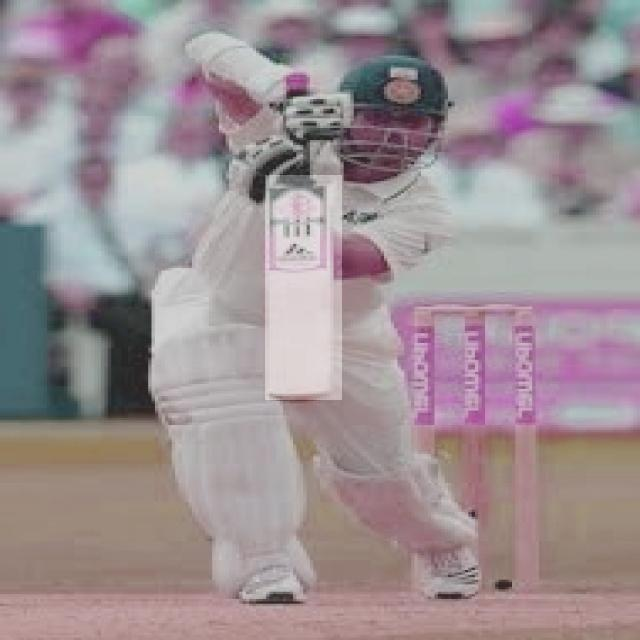bat: (264, 173, 345, 401)
toe: (259, 385, 342, 409)
